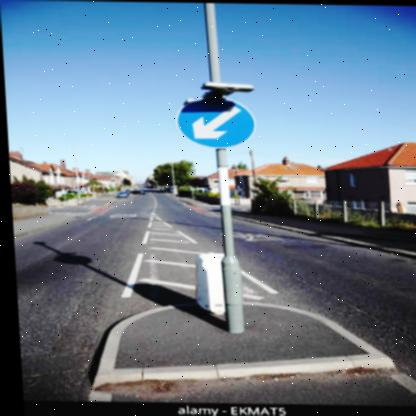Keep left: (177, 94, 257, 151)
